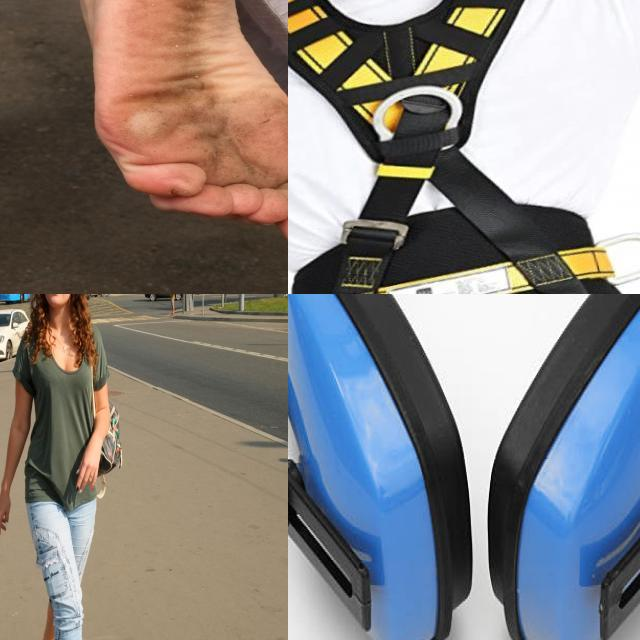Barefoots: (91, 0, 288, 254)
Ear-protection: (288, 294, 640, 640)
Harness: (288, 0, 622, 294)
